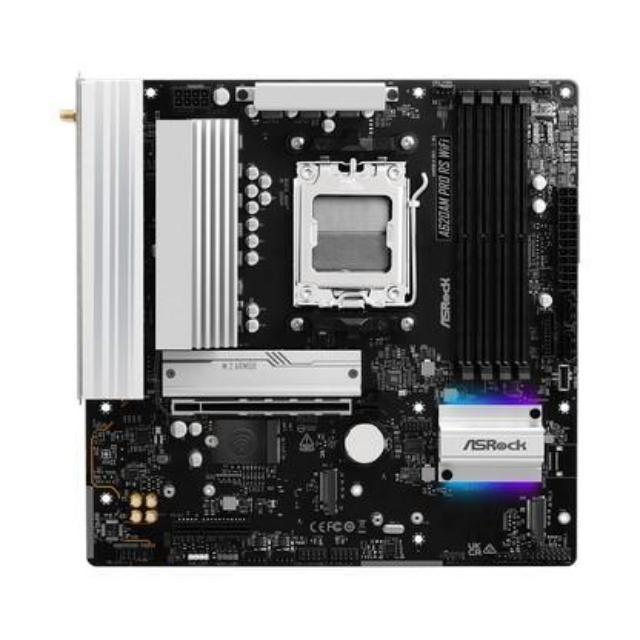Mainboard: (62, 59, 590, 584)
